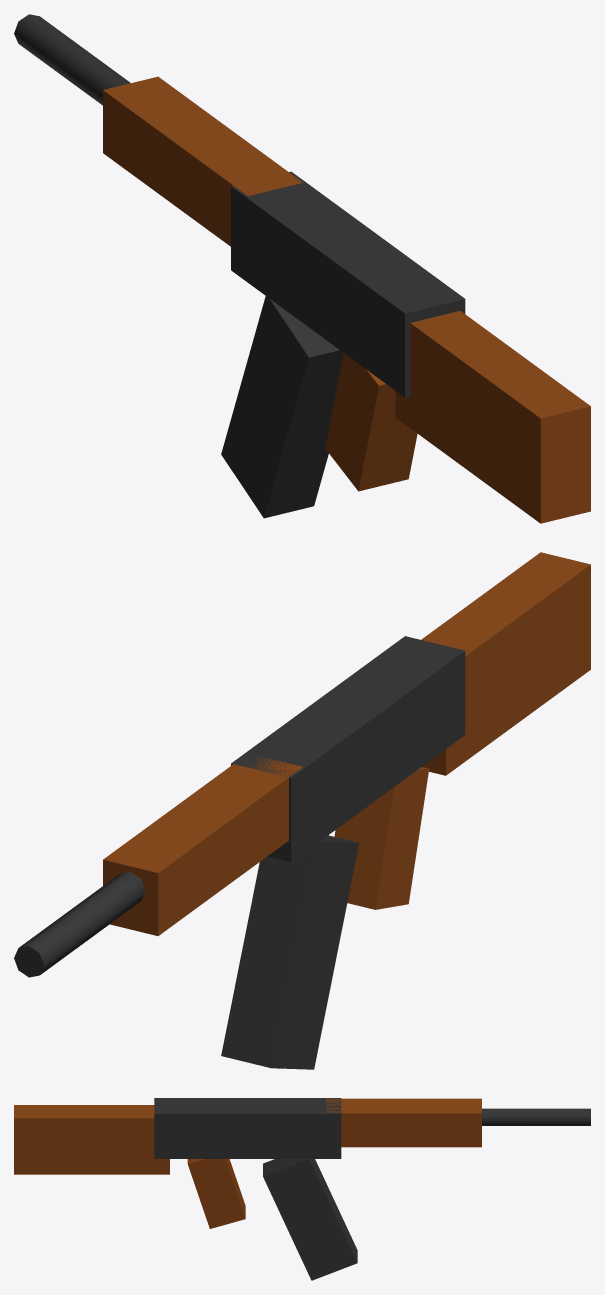
The picture shows the model from 3 angles, top to bottom: view 1: azimuth 30°, elevation 25°; view 2: azimuth 150°, elevation 25°; view 3: azimuth 270°, elevation 25°; orthographic projection. The views are drawn at different scales.
Bounding box in the file's own units: 0.06 × 0.2977 × 0.925.
